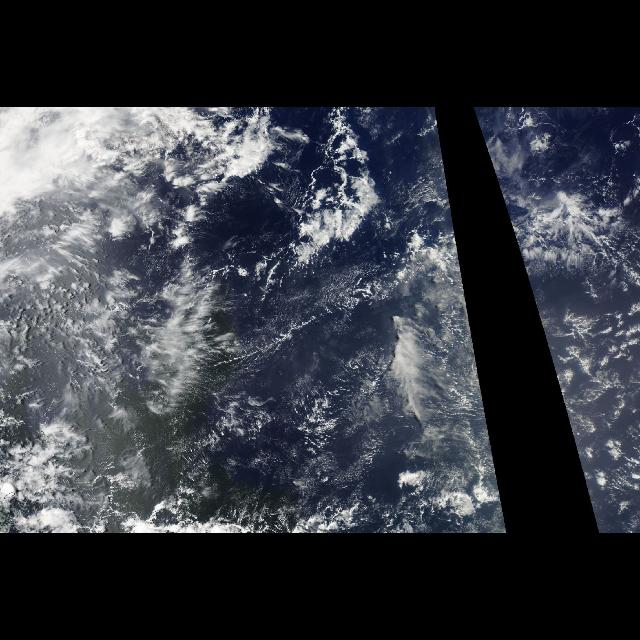Fish: (130, 283, 378, 405)
Gravel: (546, 311, 638, 495)
